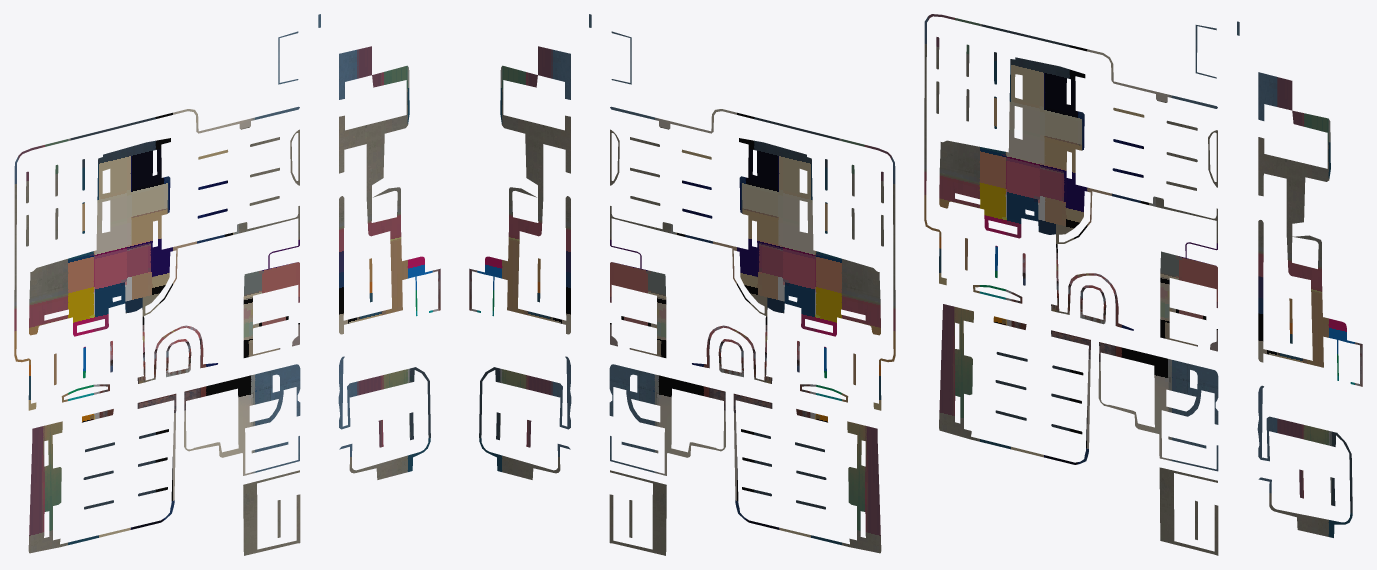
File: 126_sidewalks.gltf
3 views of the same model, side by side, from view 1: azimuth 30°, elevation 25°; view 2: azimuth 150°, elevation 25°; view 3: azimuth 330°, elevation 25° (orthographic). The views are drawn at different scales.
Parts seen in each view (by area): view 1: sidewalks; view 2: sidewalks; view 3: sidewalks.
Boxes of the visible parts, <box> form: sidewalks: <box>14,14,440,555</box>; sidewalks: <box>469,14,895,555</box>; sidewalks: <box>924,14,1362,555</box>.
Size of the model in its own units: 37.99 by 44.62 by 0.
Materials: 2 (2 with a texture image).
